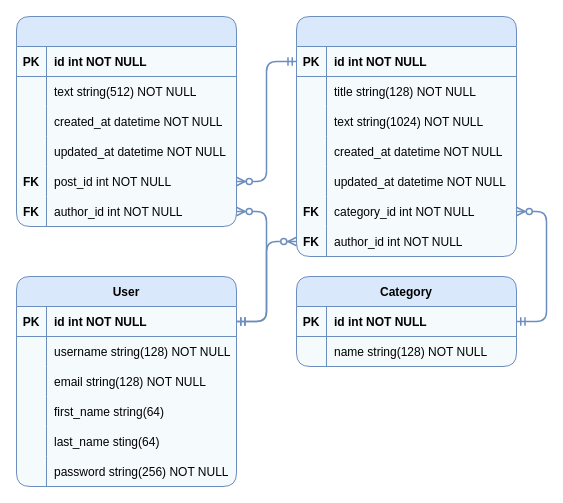
The diagram is 563 pixels wide and 503 high, and some of its shapes have lost their labels. Here are the shapes that lost their labels. From the top down, the box of each, then its label:
(16, 16, 236, 226): Comment
(296, 16, 516, 256): Post
